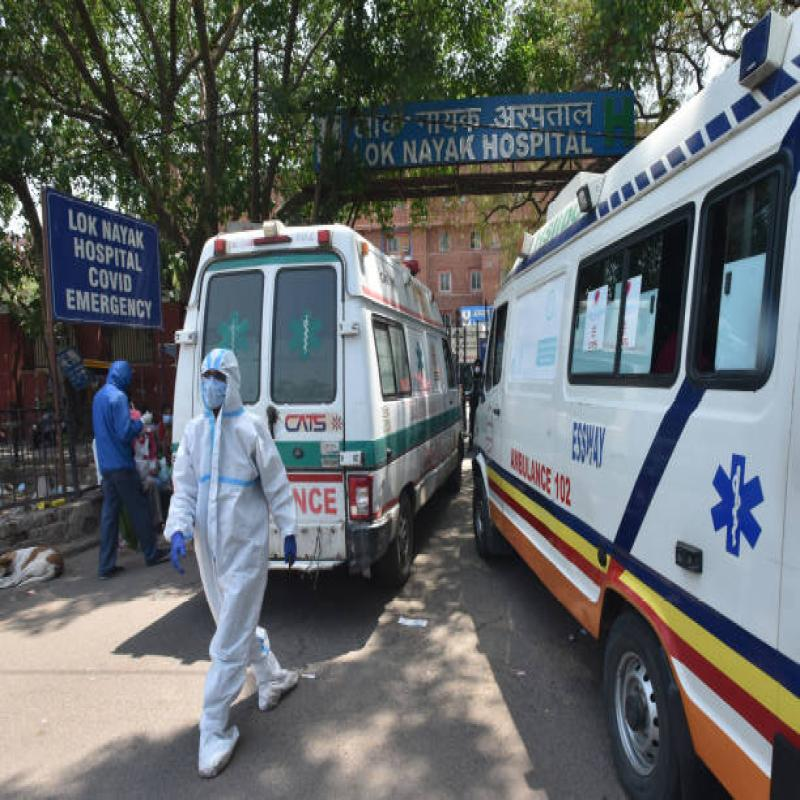ambulance: (471, 66, 800, 778)
